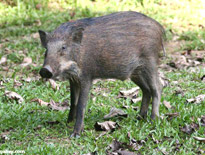wild boar: (36, 10, 171, 140)
